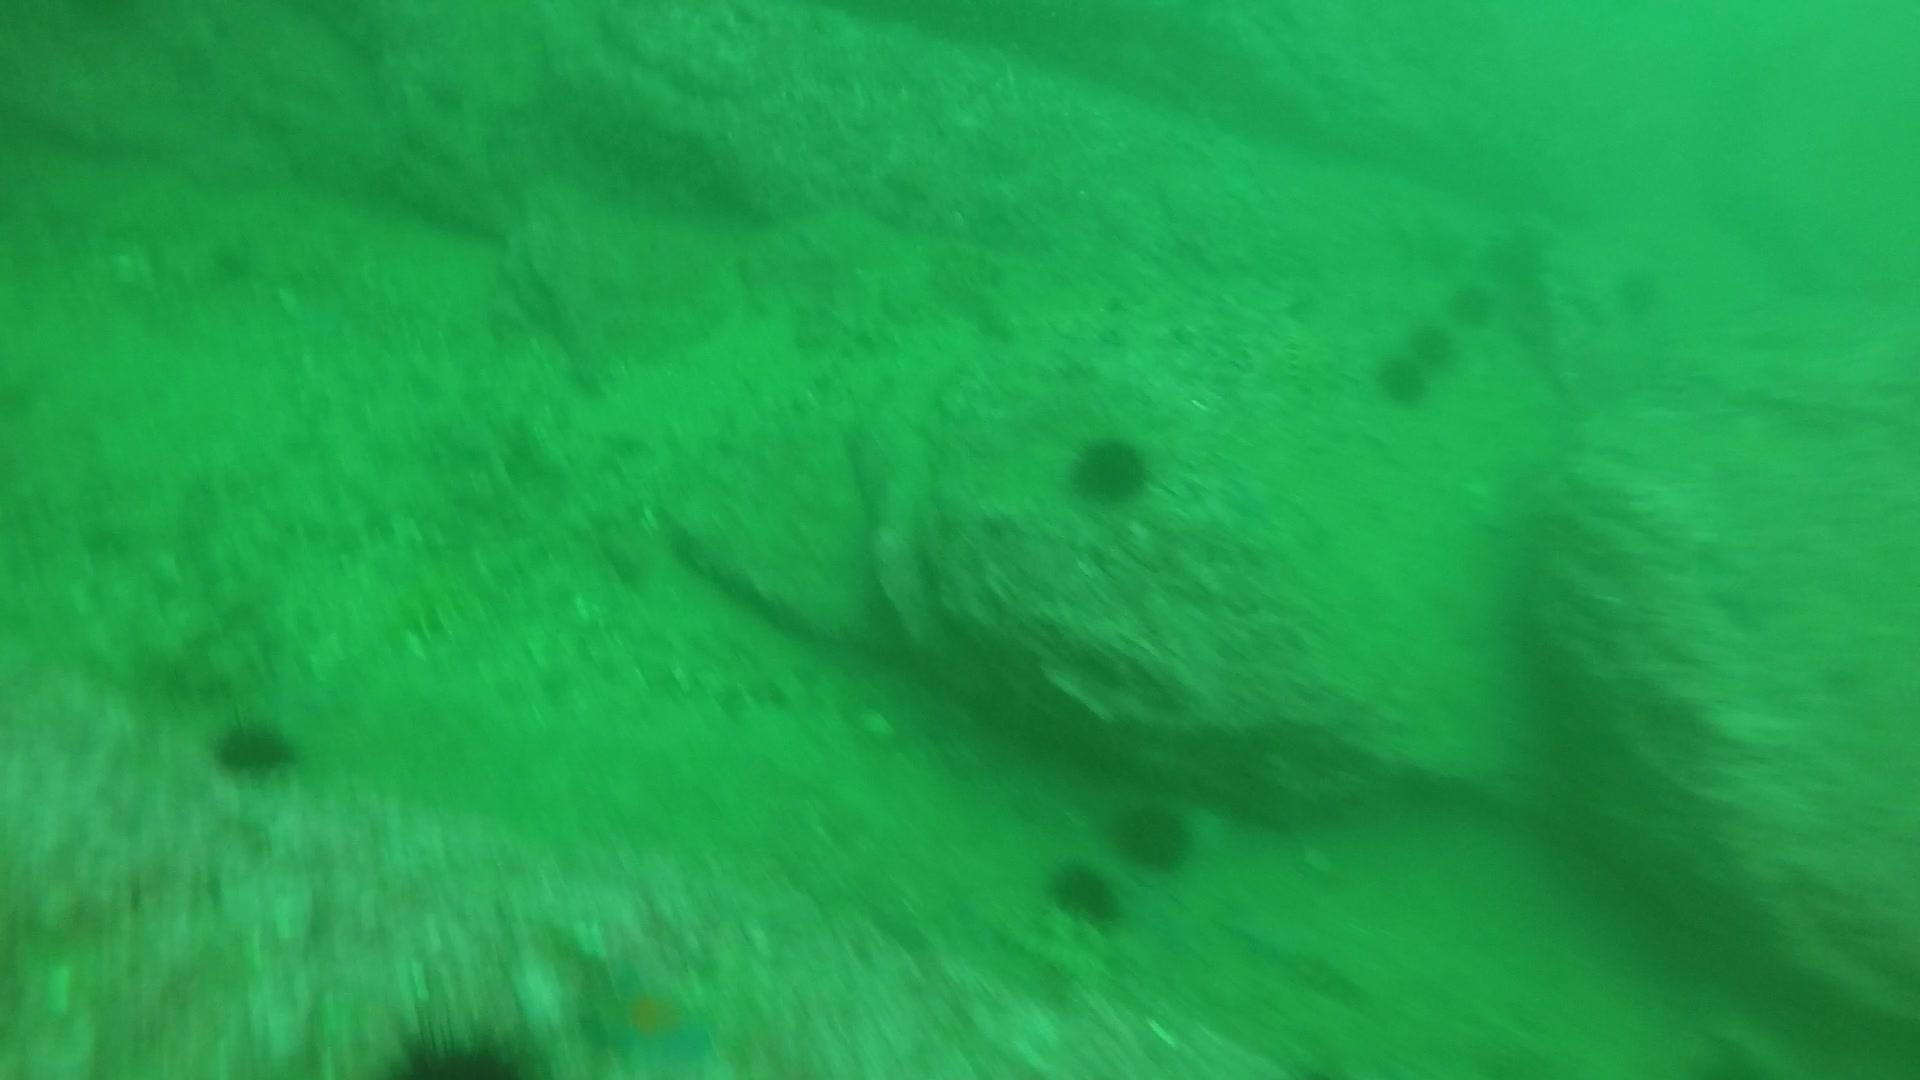echinus: (380, 1013, 553, 1077), (1062, 427, 1158, 510), (1105, 793, 1201, 876), (204, 709, 303, 787), (1040, 853, 1127, 928), (1371, 352, 1431, 411), (1604, 253, 1664, 311), (1447, 272, 1506, 328), (1399, 320, 1465, 371)
starfish: (578, 953, 727, 1077)
